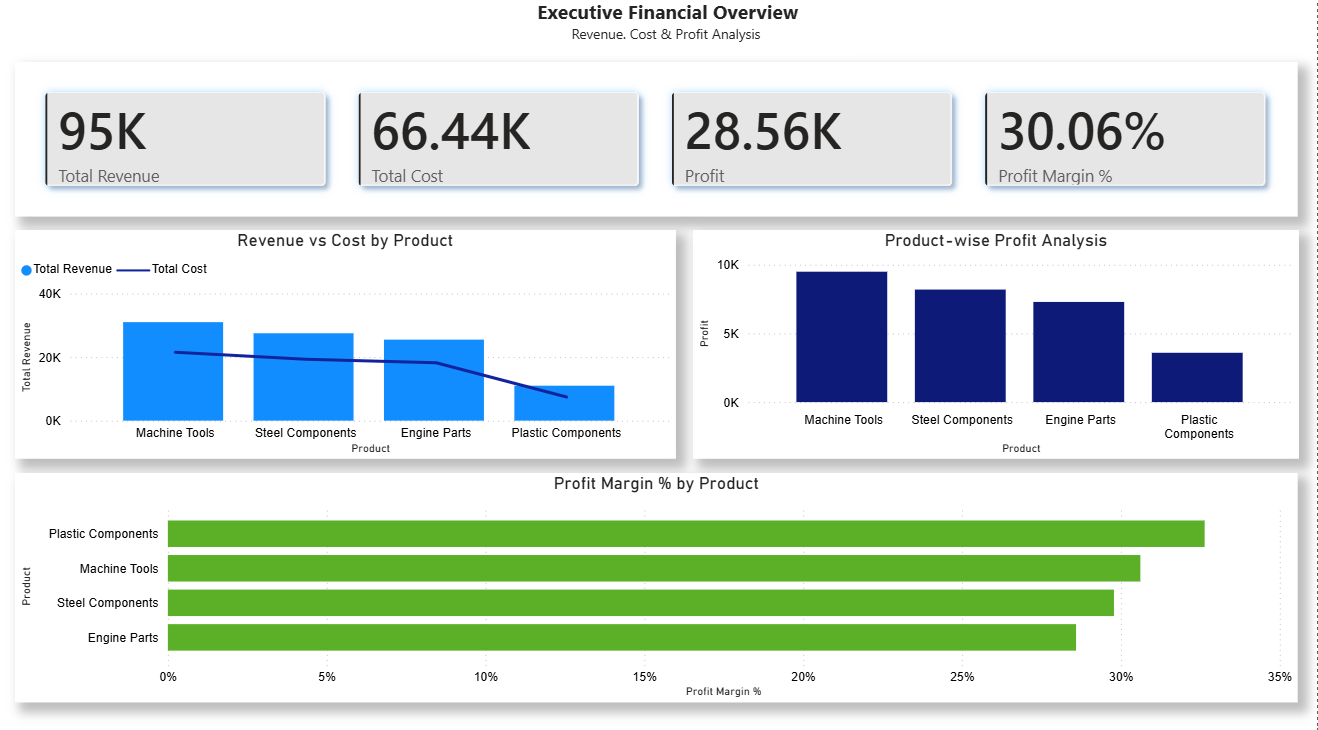

What the dashboard file says about the page in this screenshot:
{"tool":"powerbi","page":{"name":"Page 1","canvas":[1280,720],"ordinal":0},"visuals":[{"type":"cardVisual","fields":{"Data":["Revenue.Total Revenue","Cost.Total Cost","Revenue.Profit","Revenue.Profit Margin %"]},"box":[17.5,67.1,1245,149.8],"z":0},{"type":"lineStackedColumnComboChart","title":"Revenue vs Cost by Product","fields":{"Category":["Product.Product"],"Y":["Revenue.Total Revenue"],"Y2":["Cost.Total Cost"]},"box":[17.7,230.5,641.1,221.7],"z":1000},{"type":"columnChart","title":"Product-wise Profit Analysis","fields":{"Category":["Product.Product"],"Y":["Revenue.Profit"]},"box":[674.8,230.5,587.9,221.7],"z":2000},{"type":"textbox","box":[468.2,0,364.4,61.2],"z":3000},{"type":"barChart","fields":{"Y":["Revenue.Profit Margin %"],"Category":["Product.Product"]},"box":[17.7,465.5,1244.9,222.6],"z":4000}]}

Visuals, with their boxes in screenshot pixels (x1, y1, x2, y2), scaled from the page's 1280x720 canvas onto the 1318x730 screenshot:
cardVisual - Revenue.Total Revenue x Cost.Total Cost: pyautogui.locateOnScreen(18, 68, 1300, 220)
"Revenue vs Cost by Product" lineStackedColumnComboChart: pyautogui.locateOnScreen(18, 234, 678, 458)
"Product-wise Profit Analysis" columnChart: pyautogui.locateOnScreen(695, 234, 1300, 458)
textbox: pyautogui.locateOnScreen(482, 0, 857, 62)
barChart - Revenue.Profit Margin % x Product.Product: pyautogui.locateOnScreen(18, 472, 1300, 698)
